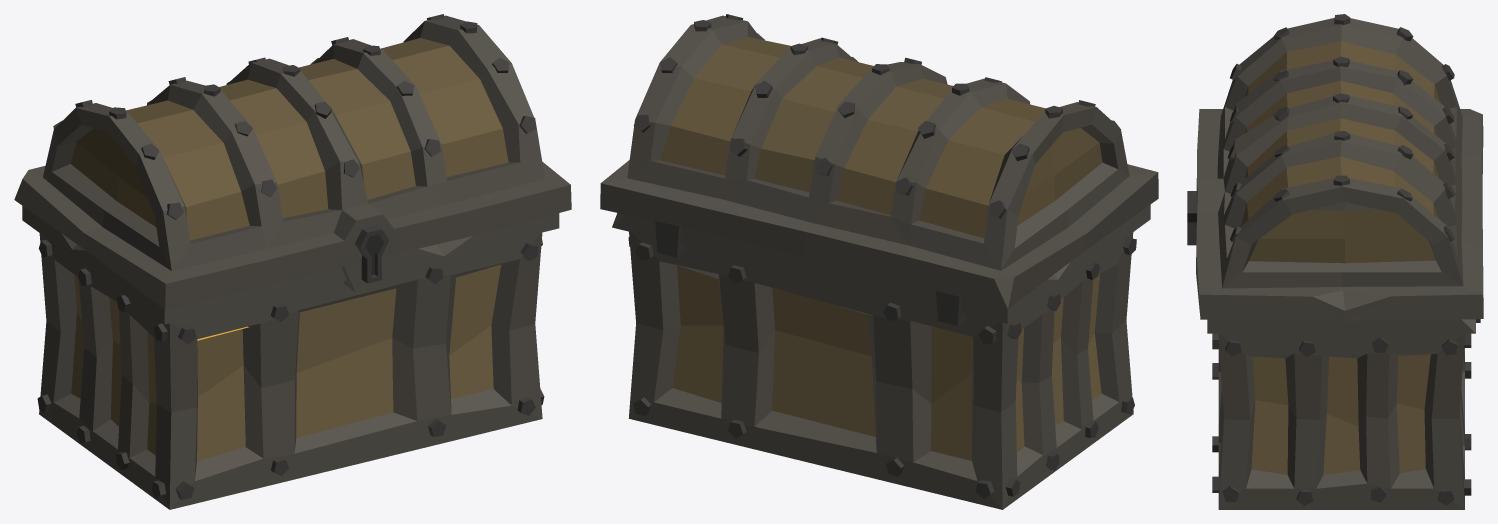
File: Chest_1.fbx
3 renders of one model, left to right at view 1: azimuth 30°, elevation 25°; view 2: azimuth 150°, elevation 25°; view 3: azimuth 270°, elevation 25°, orthographic. The views are drawn at different scales.
Parts seen in each view (by area): view 1: Chest_1_Lid, Chest_1; view 2: Chest_1, Chest_1_Lid; view 3: Chest_1_Lid, Chest_1.
Part boxes in pixels (x1=…): Chest_1_Lid: x1=14, y1=14, x2=571, y2=309; Chest_1: x1=22, y1=206, x2=559, y2=509; Chest_1: x1=612, y1=204, x2=1150, y2=509; Chest_1_Lid: x1=600, y1=14, x2=1158, y2=309; Chest_1_Lid: x1=1187, y1=14, x2=1483, y2=321; Chest_1: x1=1207, y1=319, x2=1480, y2=509.
Bounding box in the file's own units: 68.5 × 54.6 × 44.78.
